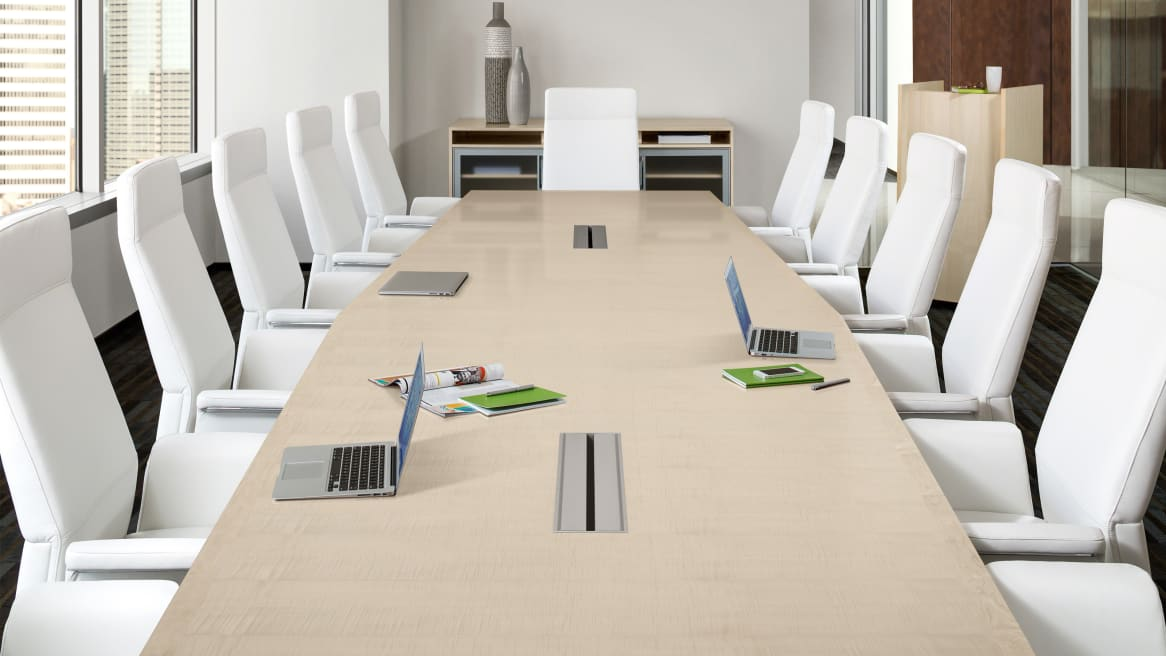conference_table: (140, 191, 1036, 653)
